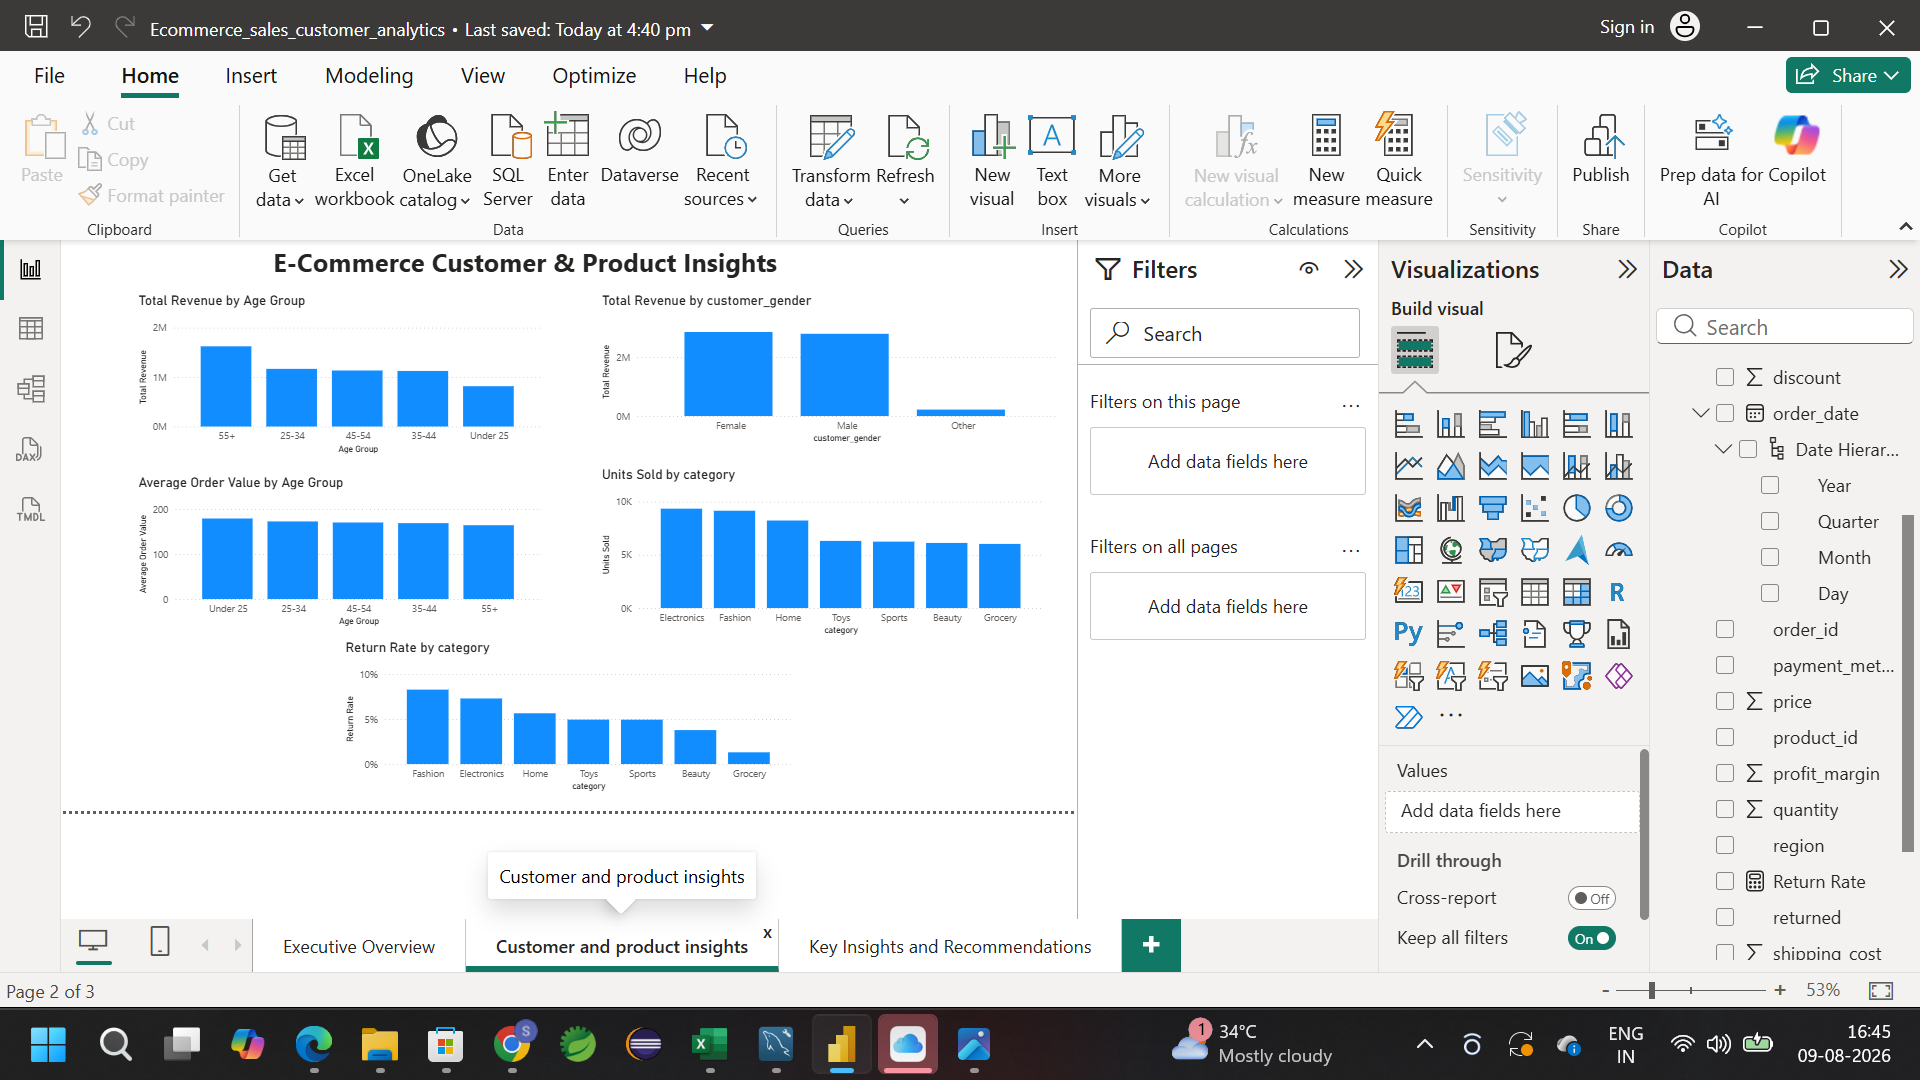

The dashboard page shown, as its layout file describes it:
{"tool":"powerbi","page":{"name":"Customer and product insights","canvas":[1280,720],"ordinal":1},"visuals":[{"type":"textbox","box":[255.1,0,659.5,60.5],"z":0},{"type":"clusteredColumnChart","fields":{"Category":["ecommerce_sales_34500.Age Group"],"Y":["ecommerce_sales_34500.Total Revenue"]},"box":[92.6,66.1,517.8,207.9],"z":1},{"type":"clusteredColumnChart","fields":{"Category":["ecommerce_sales_34500.customer_gender"],"Y":["ecommerce_sales_34500.Total Revenue"]},"box":[676.5,66.1,582.1,194.6],"z":2},{"type":"clusteredColumnChart","fields":{"Category":["ecommerce_sales_34500.category"],"Y":["ecommerce_sales_34500.Units Sold"]},"box":[676.5,285.4,565,217.3],"z":3},{"type":"clusteredColumnChart","fields":{"Category":["ecommerce_sales_34500.Age Group"],"Y":["ecommerce_sales_34500.Average Order Value"]},"box":[92.6,294.8,517.8,196.5],"z":4},{"type":"clusteredColumnChart","fields":{"Category":["ecommerce_sales_34500.category"],"Y":["ecommerce_sales_34500.Return Rate"]},"box":[353.4,502.7,572.6,196.5],"z":5}]}

Visuals, with their boxes on the page's 1280x720 design canvas (x1, y1, x2, y2). These are canvas units, not pixel positions in the 1920x1080 screenshot, which may show the page scaled, cropped or inside an application window:
textbox: (left=255, top=0, right=915, bottom=60)
clusteredColumnChart - ecommerce_sales_34500.Age Group x ecommerce_sales_34500.Total Revenue: (left=93, top=66, right=610, bottom=274)
clusteredColumnChart - ecommerce_sales_34500.customer_gender x ecommerce_sales_34500.Total Revenue: (left=676, top=66, right=1259, bottom=261)
clusteredColumnChart - ecommerce_sales_34500.category x ecommerce_sales_34500.Units Sold: (left=676, top=285, right=1242, bottom=503)
clusteredColumnChart - ecommerce_sales_34500.Age Group x ecommerce_sales_34500.Average Order Value: (left=93, top=295, right=610, bottom=491)
clusteredColumnChart - ecommerce_sales_34500.category x ecommerce_sales_34500.Return Rate: (left=353, top=503, right=926, bottom=699)
